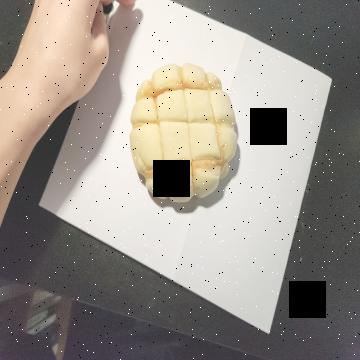melon_bread: (130, 63, 238, 204)
